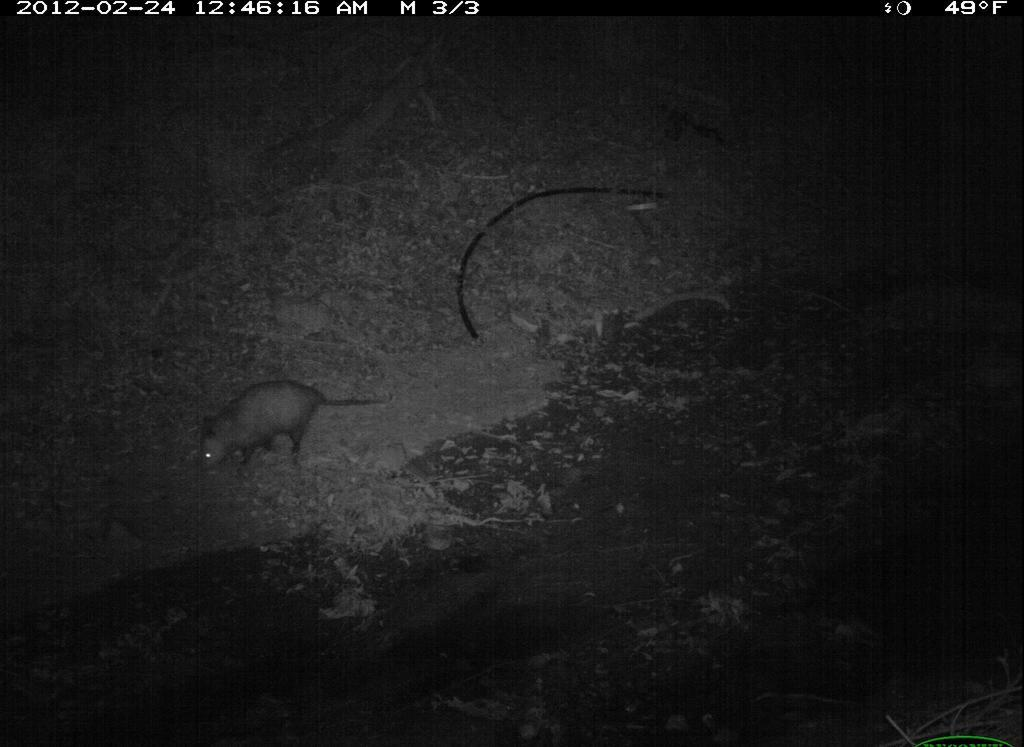opossum: (186, 370, 392, 479)
